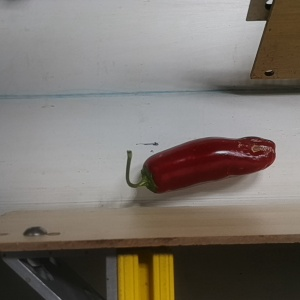Cut Point: (137, 156, 167, 193)
